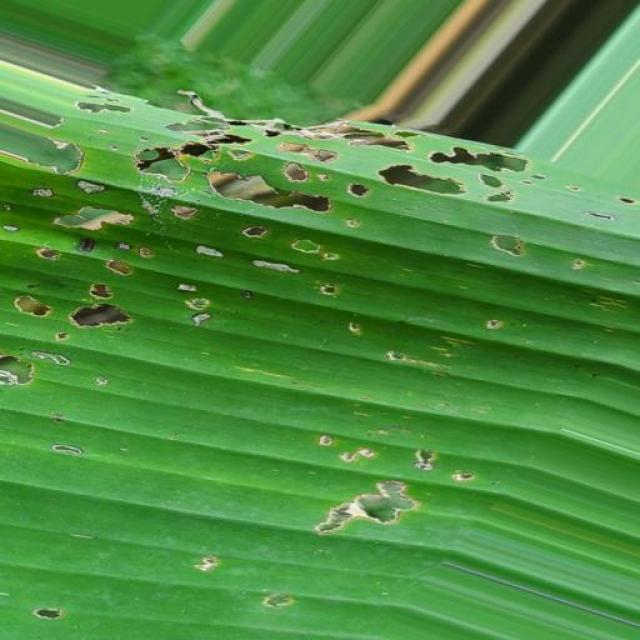Black_rot: (0, 42, 619, 639)
